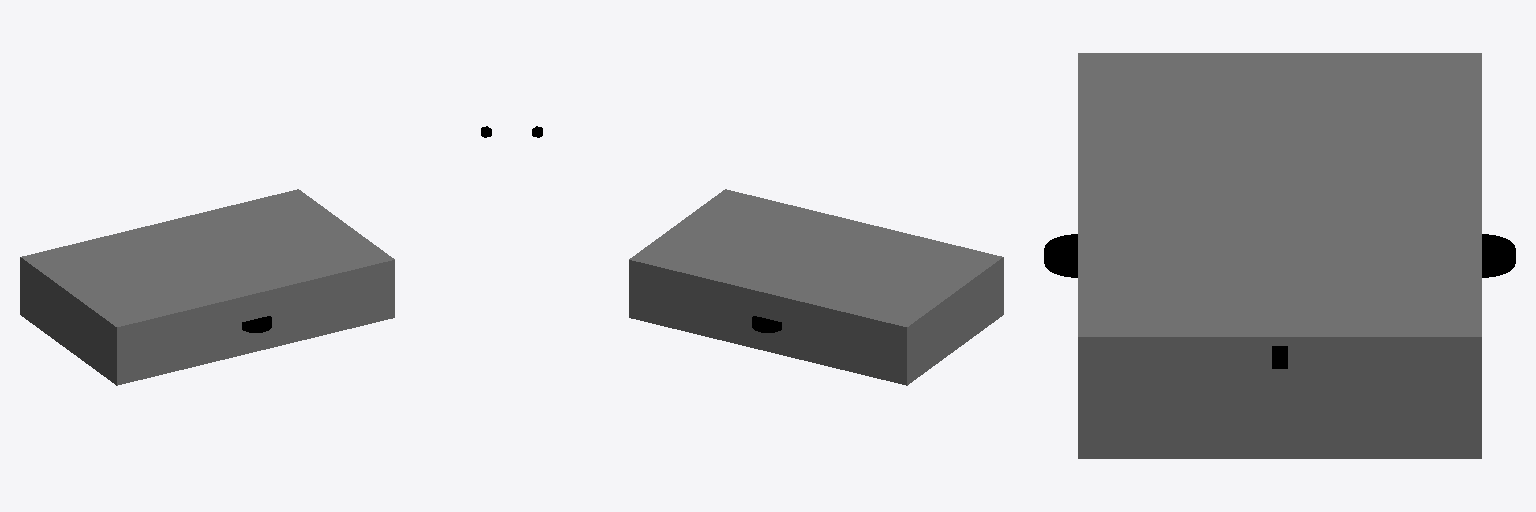
URDF robot description (turtlebot3_del):
<?xml version="1.0" ?>
<robot name="turtlebot3_del" xmlns:xacro="http://ros.org/wiki/xacro">

  <!-- Materials -->
  <material name="black"><color rgba="0 0 0 1"/></material>
  <material name="grey"><color rgba="0.5 0.5 0.5 1"/></material>

  <!-- Base footprint -->
  <link name="base_footprint"/>
  <joint name="base_joint" type="fixed">
    <parent link="base_footprint"/>
    <child link="base_link"/>
    <origin xyz="0 0 0.01" rpy="0 0 0"/>
  </joint>

  <!-- Base Link -->
  <link name="base_link">
    <visual>
      <origin xyz="0 0 0.2" rpy="0 0 0"/>
      <geometry>
        <box size="2.0 1.2 0.4"/>
      </geometry>
      <material name="grey"/>
    </visual>
    <collision>
      <origin xyz="0 0 0.2" rpy="0 0 0"/>
      <geometry>
        <box size="2.0 1.2 0.4"/>
      </geometry>
    </collision>
    <inertial>
      <origin xyz="0 0 0.2"/>
      <mass value="20"/>
      <inertia ixx="1" iyy="1" izz="1" ixy="0" ixz="0" iyz="0"/>
    </inertial>
  </link>

  <!-- Left Wheel -->
  <link name="wheel_left_link">
    <visual>
      <origin xyz="0 -0.3 0.1" rpy="0 0 0"/>
      <geometry>
        <cylinder radius="0.1" length="0.05"/>
      </geometry>
      <material name="black"/>
    </visual>
    <collision>
      <origin xyz="0 -0.3 0.1" rpy="0 0 0"/>
      <geometry>
        <cylinder radius="0.1" length="0.05"/>
      </geometry>
    </collision>
    <inertial>
      <origin xyz="0 -0.3 0.1"/>
      <mass value="2"/>
      <inertia ixx="0.01" iyy="0.01" izz="0.01" ixy="0" ixz="0" iyz="0"/>
    </inertial>
  </link>
  <joint name="wheel_left_joint" type="continuous">
    <parent link="base_link"/>
    <child link="wheel_left_link"/>
    <origin xyz="0 -0.3 0.1" rpy="0 0 0"/>
    <axis xyz="0 1 0"/>
  </joint>

  <!-- Right Wheel -->
  <link name="wheel_right_link">
    <visual>
      <origin xyz="0 0.3 0.1" rpy="0 0 0"/>
      <geometry>
        <cylinder radius="0.1" length="0.05"/>
      </geometry>
      <material name="black"/>
    </visual>
    <collision>
      <origin xyz="0 0.3 0.1" rpy="0 0 0"/>
      <geometry>
        <cylinder radius="0.1" length="0.05"/>
      </geometry>
    </collision>
    <inertial>
      <origin xyz="0 0.3 0.1"/>
      <mass value="2"/>
      <inertia ixx="0.01" iyy="0.01" izz="0.01" ixy="0" ixz="0" iyz="0"/>
    </inertial>
  </link>
  <joint name="wheel_right_joint" type="continuous">
    <parent link="base_link"/>
    <child link="wheel_right_link"/>
    <origin xyz="0 0.3 0.1" rpy="0 0 0"/>
    <axis xyz="0 1 0"/>
  </joint>

  <!-- Camera -->
  <link name="camera_link">
    <visual>
      <origin xyz="1.0 0 0.4" rpy="0 0 0"/>
      <geometry>
        <box size="0.05 0.05 0.05"/>
      </geometry>
      <material name="black"/>
    </visual>
  </link>
  <joint name="camera_joint" type="fixed">
    <parent link="base_link"/>
    <child link="camera_link"/>
    <origin xyz="1.0 0 0.4" rpy="0 0 0"/>
  </joint>

</robot>

--- Render facts (derived) ---
The picture shows the robot from 3 angles, left to right: view 1: azimuth 30°, elevation 25°; view 2: azimuth 150°, elevation 25°; view 3: azimuth 270°, elevation 25°; orthographic projection.
Robot: turtlebot3_del — 5 links, 4 joints (2 continuous, 2 fixed); root link base_footprint; default pose: all joints at 0.
Visible links, largest first — view 1: base_link; view 2: base_link; view 3: base_link, wheel_left_link, wheel_right_link.
Link boxes in pixels (x1=…): base_link: x1=20, y1=189, x2=394, y2=385; base_link: x1=629, y1=189, x2=1003, y2=385; base_link: x1=1078, y1=53, x2=1481, y2=458; wheel_left_link: x1=1044, y1=234, x2=1077, y2=277; wheel_right_link: x1=1482, y1=234, x2=1515, y2=277.
Size in the robot's own frame: 3.02 by 1.4 by 0.825 metres.
Geometry: primitives only (box / cylinder / sphere), no mesh files.
